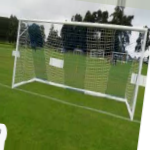goals: (11, 16, 150, 123)
